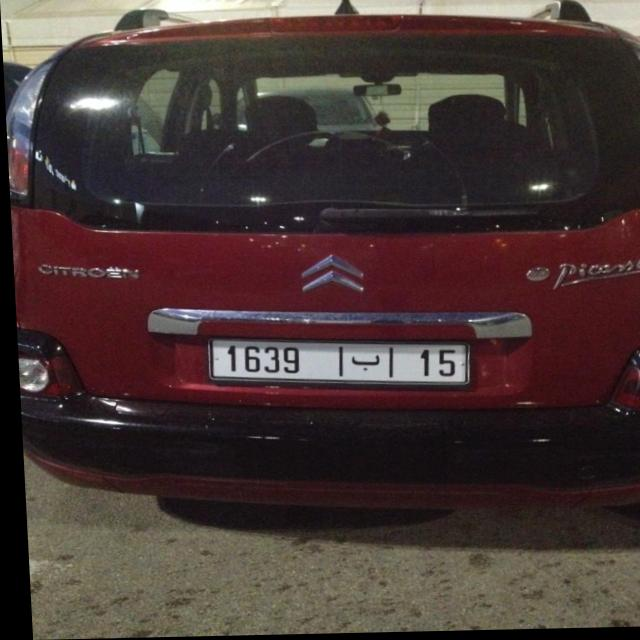License-Plate: (206, 340, 466, 387)
